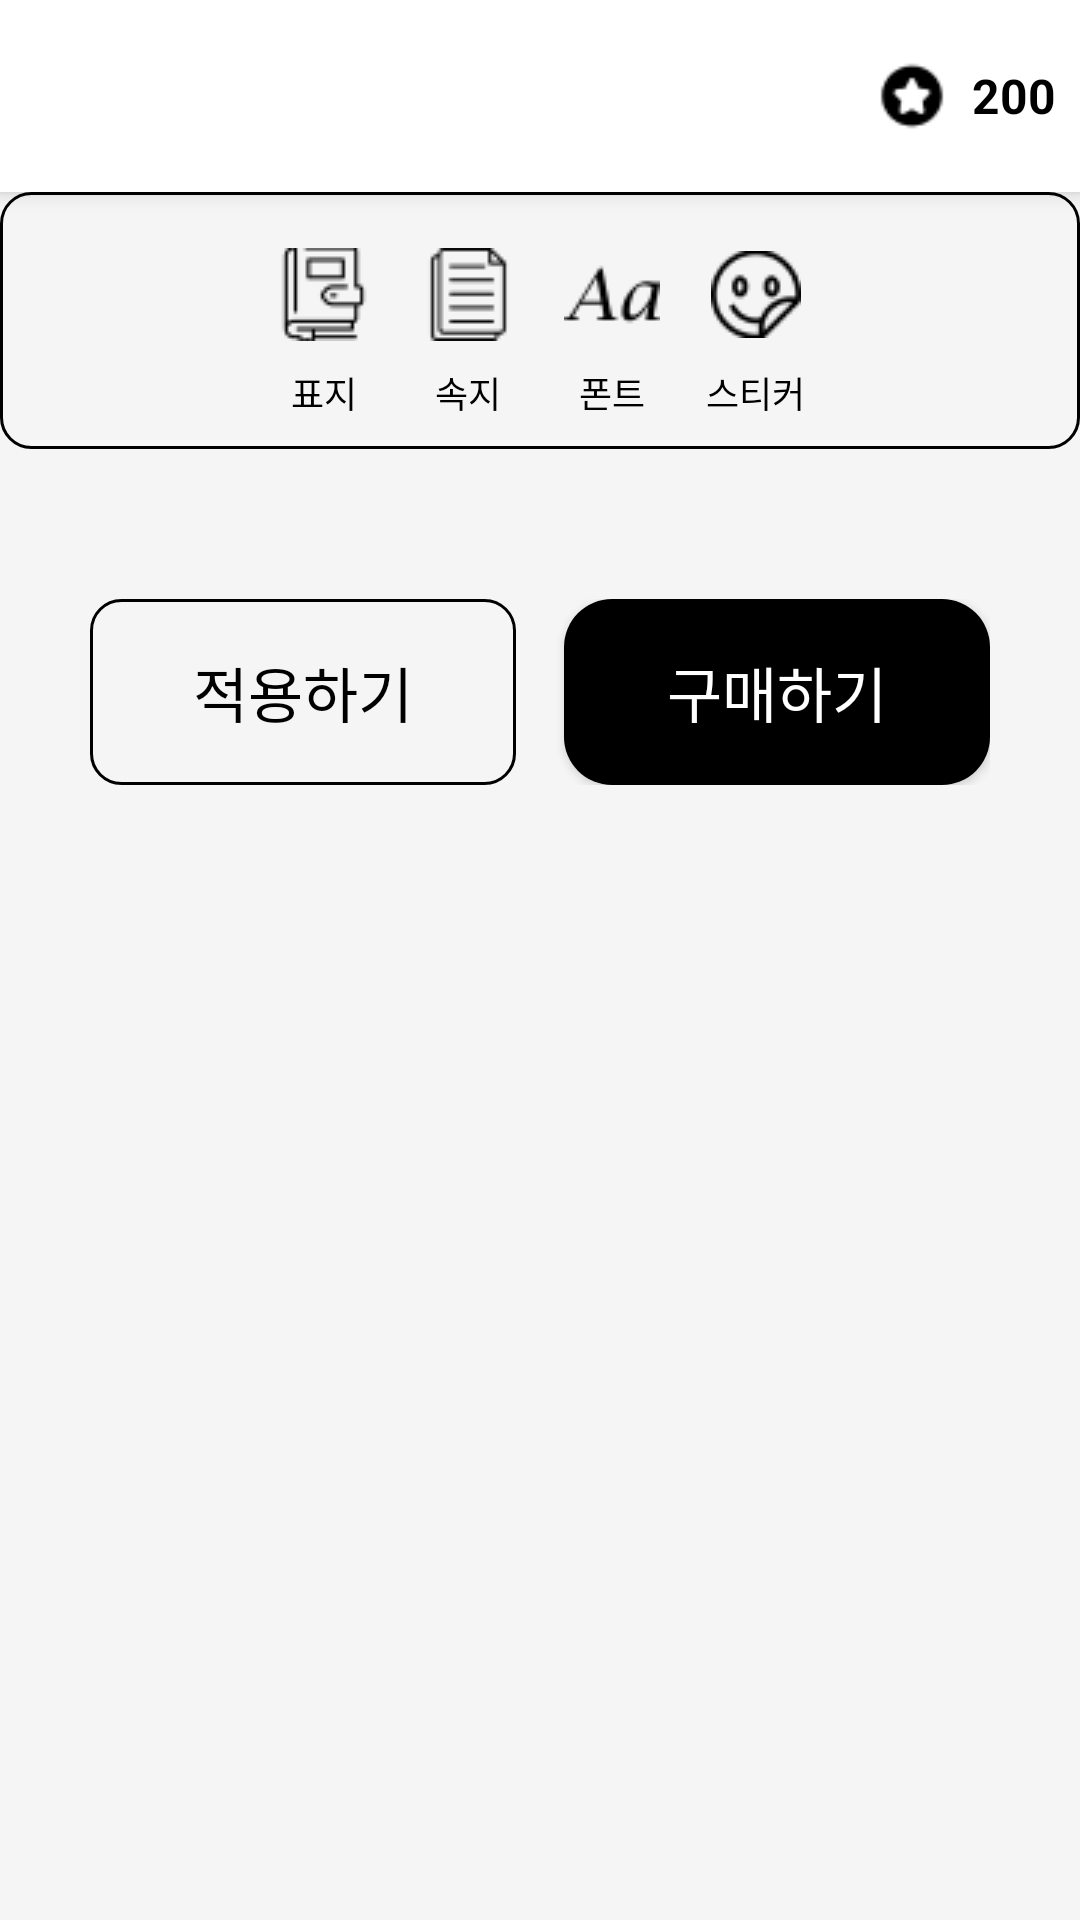

Screen size 1080×1920. Icon name, then its center in pixels as (x,y):
coin: (912,96)
